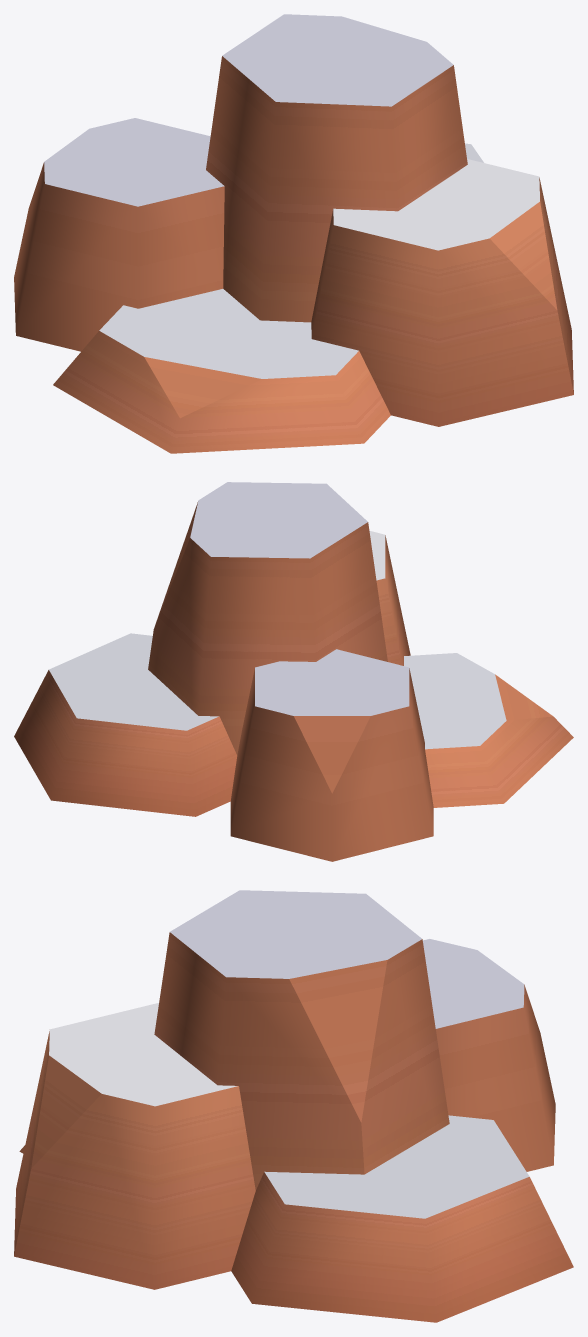
Rendered from snow-detail-dirt-large.glb.
3 views of the same model, one above another, from view 1: azimuth 30°, elevation 25°; view 2: azimuth 150°, elevation 25°; view 3: azimuth 270°, elevation 25° (orthographic). The views are drawn at different scales.
Parts seen in each view (by area): view 1: snow-detail-dirt-large; view 2: snow-detail-dirt-large; view 3: snow-detail-dirt-large.
Boxes of the visible parts, bbox=[...] form: snow-detail-dirt-large: bbox=[14, 14, 573, 453]; snow-detail-dirt-large: bbox=[14, 482, 573, 861]; snow-detail-dirt-large: bbox=[14, 890, 573, 1322].
Bounding box in the file's own units: 0.8531 × 0.4145 × 0.7785.
Materials: 1 (1 with a texture image).
